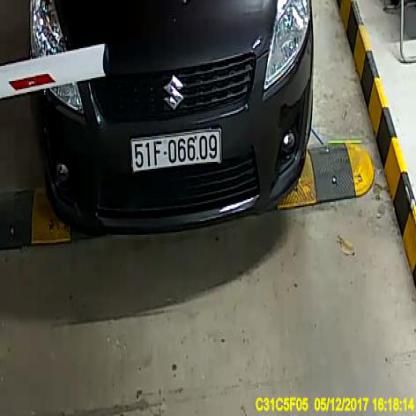biensoxe: (132, 130, 221, 172)
